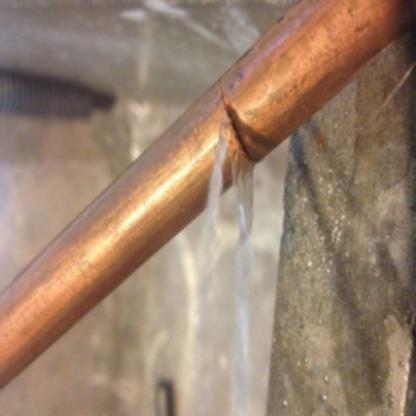burst: (214, 109, 268, 192)
